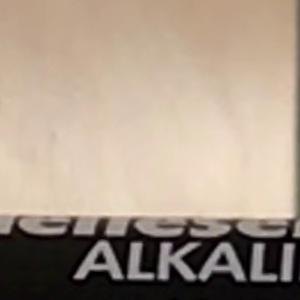keyword: (64, 233, 189, 289)
